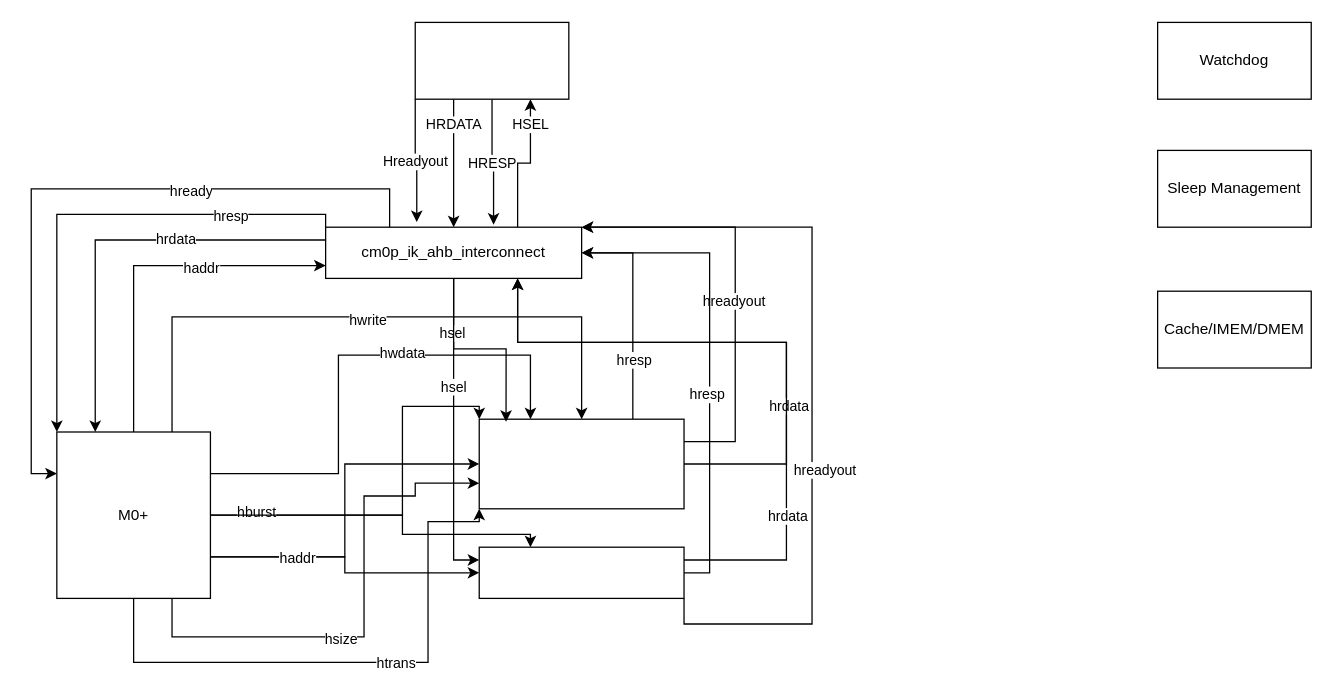
Image size: 1334x695. Some labels were removed from this diagram. The shapes that lost their labels are listed below. From the top down, each one's centre as x and y in pixels, then its label:
At (x=491, y=60): "External Interface".
At (x=581, y=463): "cm0p_ik_sram_bridge".
At (x=581, y=572): "cm0p_ik_rom_bridge".
